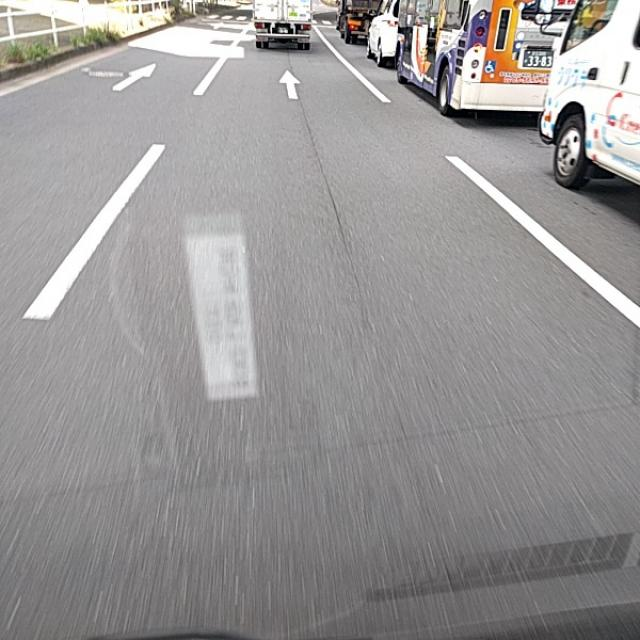pothole: (351, 318, 424, 433)
